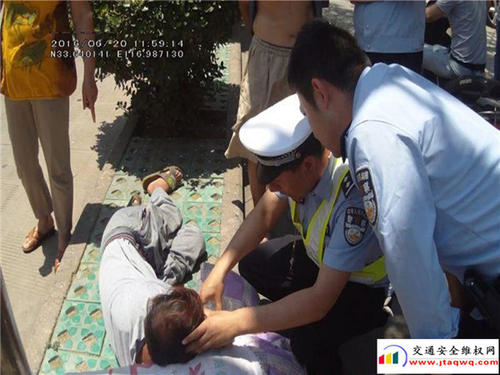fall: (90, 155, 211, 371)
